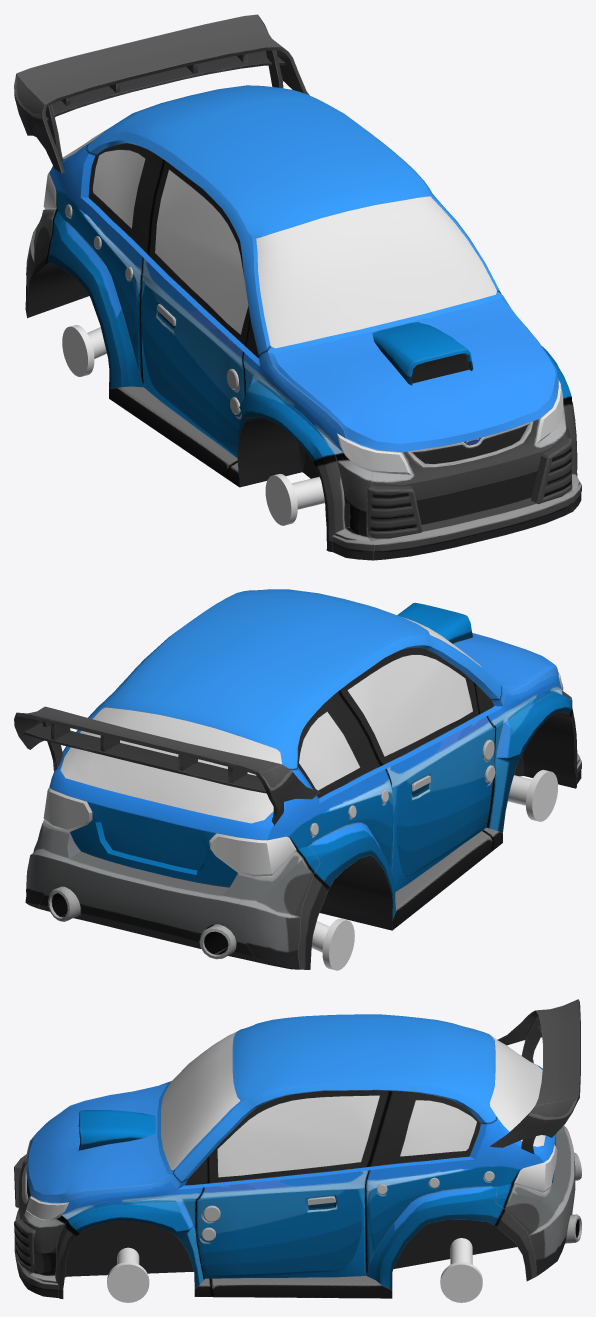
The model's file is HCR2_Rally.fbx.
3 views of the same model, one above another, from view 1: azimuth 30°, elevation 25°; view 2: azimuth 150°, elevation 25°; view 3: azimuth 270°, elevation 25° (orthographic). The views are drawn at different scales.
Parts seen in each view (by area): view 1: HCR2_Rally_Body, HCR2_Rally_Windows, HCR2_Rally_Hood, HCR2_Rally_Details, HCR2_Rally_Chassis, HCR2_Rally_Susp, HCR2_Rally_Lcover; view 2: HCR2_Rally_Body, HCR2_Rally_Windows, HCR2_Rally_Details, HCR2_Rally_Chassis, HCR2_Rally_Hood, HCR2_Rally_Lcover, HCR2_Rally_Susp; view 3: HCR2_Rally_Body, HCR2_Rally_Windows, HCR2_Rally_Hood, HCR2_Rally_Details, HCR2_Rally_Chassis, HCR2_Rally_Susp, HCR2_Rally_Lcover.
Part boxes in pixels (<box>): HCR2_Rally_Body: <box>25,85,581,560</box>; HCR2_Rally_Windows: <box>63,130,496,348</box>; HCR2_Rally_Hood: <box>268,295,558,452</box>; HCR2_Rally_Details: <box>14,14,572,538</box>; HCR2_Rally_Chassis: <box>27,263,319,487</box>; HCR2_Rally_Susp: <box>62,325,324,525</box>; HCR2_Rally_Lcover: <box>43,170,563,474</box>; HCR2_Rally_Body: <box>25,589,581,969</box>; HCR2_Rally_Windows: <box>60,617,482,823</box>; HCR2_Rally_Details: <box>14,691,572,959</box>; HCR2_Rally_Chassis: <box>319,712,576,930</box>; HCR2_Rally_Hood: <box>397,602,558,690</box>; HCR2_Rally_Lcover: <box>43,672,563,876</box>; HCR2_Rally_Susp: <box>311,769,557,970</box>; HCR2_Rally_Body: <box>14,1014,575,1298</box>; HCR2_Rally_Windows: <box>161,1031,545,1177</box>; HCR2_Rally_Hood: <box>26,1081,171,1202</box>; HCR2_Rally_Details: <box>14,999,581,1272</box>; HCR2_Rally_Chassis: <box>63,1220,516,1293</box>; HCR2_Rally_Susp: <box>107,1238,482,1302</box>; HCR2_Rally_Lcover: <box>26,1137,557,1220</box>.
Size of the model in its own units: 194 by 167 by 410.
